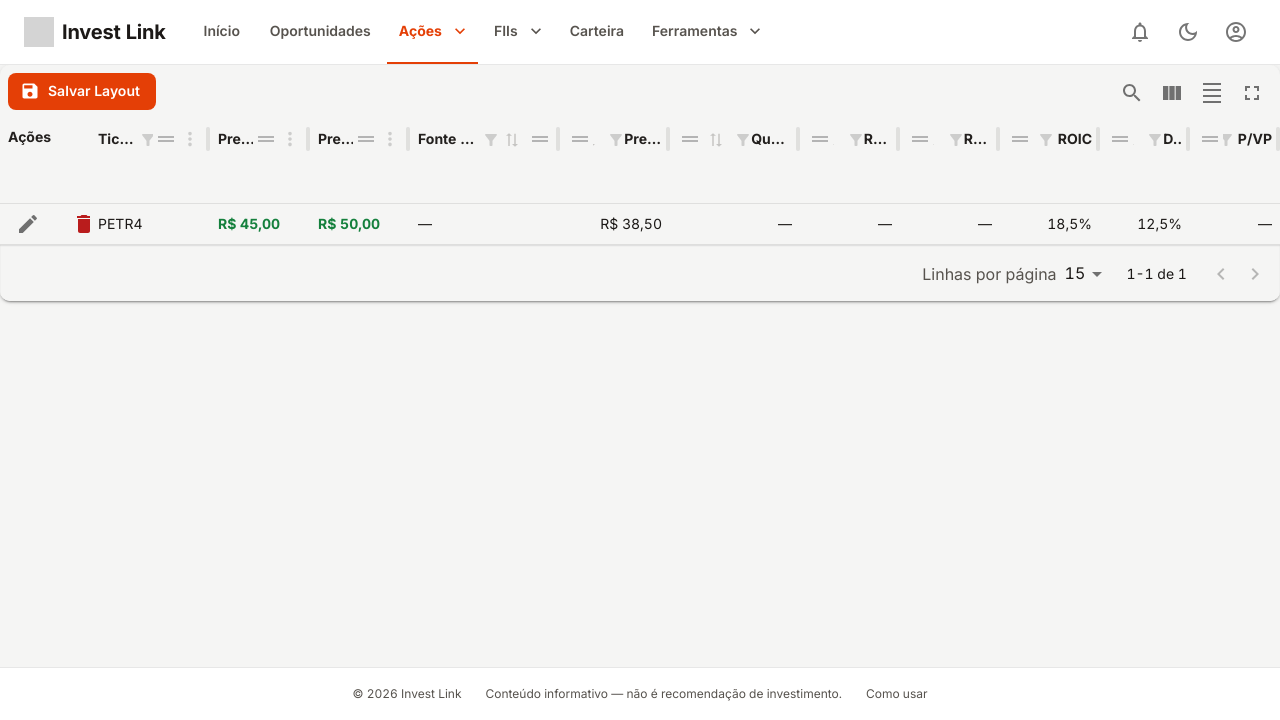
Test: Favoritas › abre modal de edição ao clicar em Edit
The width and height of the screenshot is (1280, 720).
Check: the text "PETR4" is shown, box left=90, top=204, right=210, bottom=245
Click the button named "Edit".
click(28, 224)  # box left=8, top=204, right=48, bottom=244
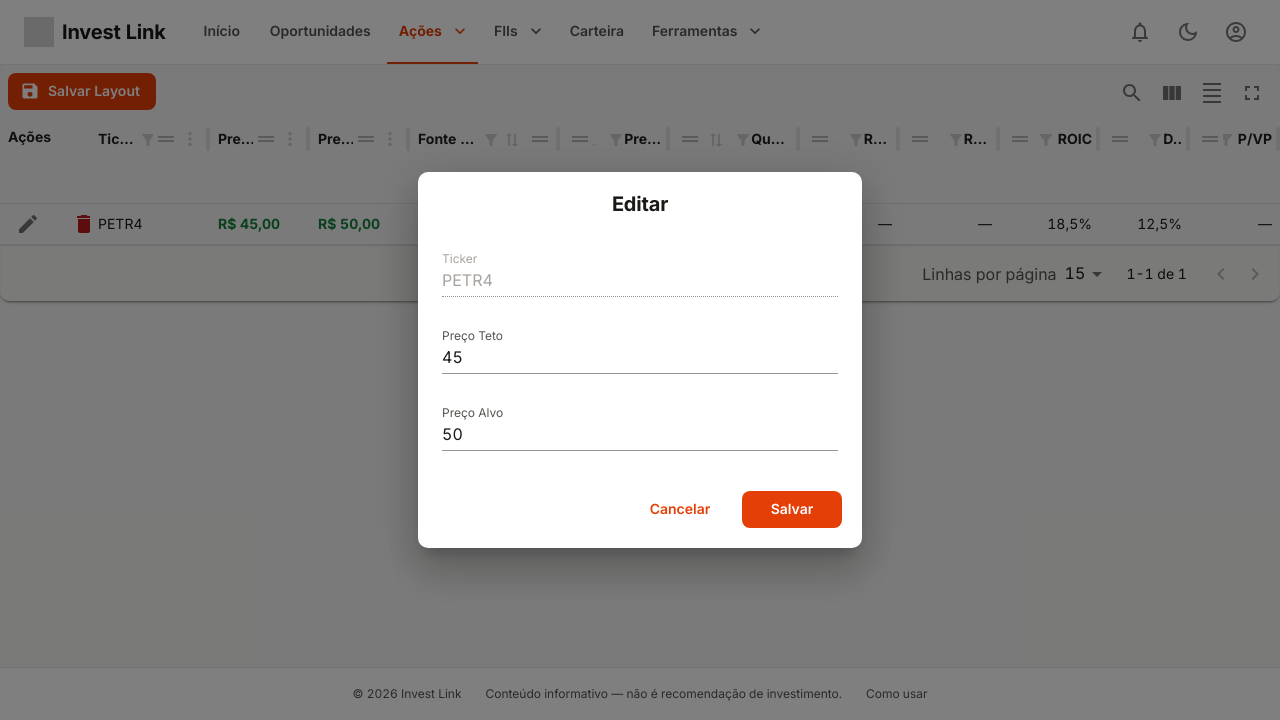
Check: the dialog is shown, box left=418, top=172, right=862, bottom=548
